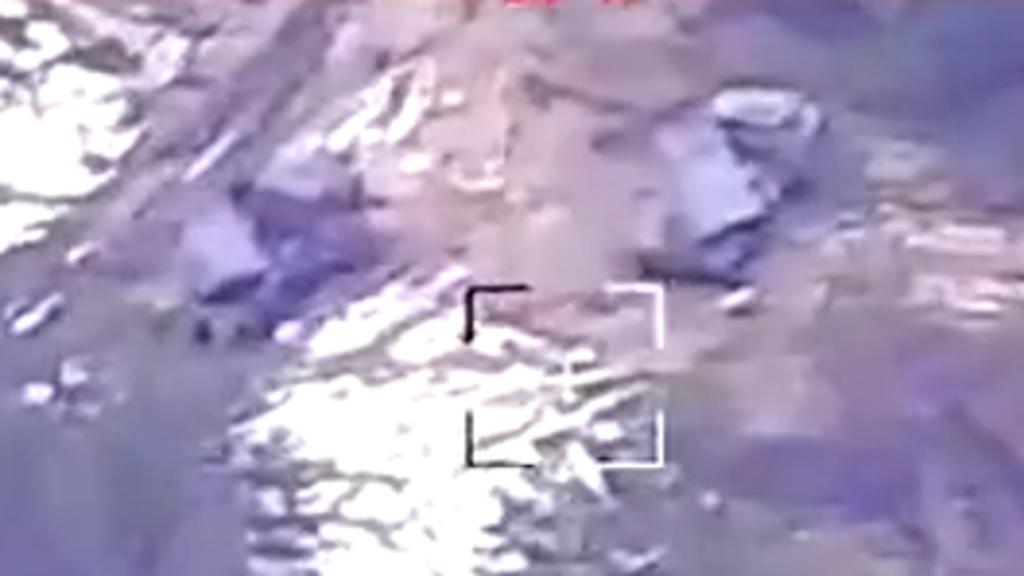MLRS: (606, 68, 826, 283), (164, 136, 362, 344)
